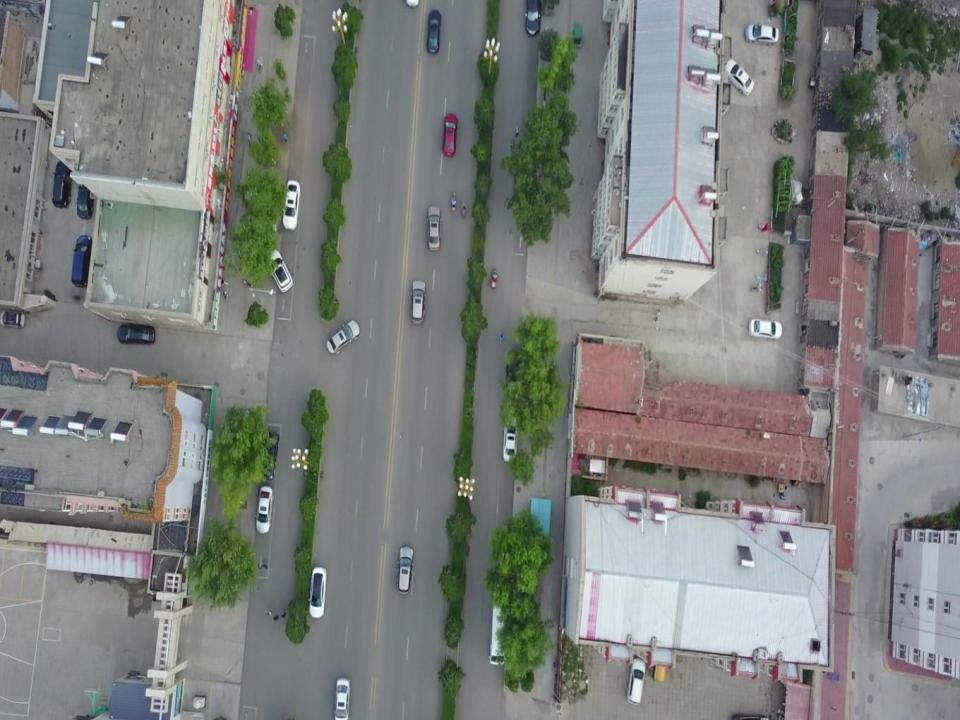bus: (489, 584, 511, 668)
car: (326, 319, 360, 356), (267, 249, 294, 293), (281, 179, 301, 231), (726, 58, 754, 95), (626, 658, 647, 706), (308, 566, 327, 618), (255, 486, 274, 534), (260, 432, 279, 480), (52, 160, 70, 209), (396, 545, 413, 594), (748, 318, 783, 341), (116, 325, 156, 345), (744, 23, 778, 46), (426, 8, 442, 54), (426, 204, 442, 250), (503, 418, 519, 464), (333, 677, 350, 720), (442, 113, 458, 157), (506, 351, 520, 401), (410, 280, 426, 323), (77, 184, 95, 220), (526, 0, 542, 37), (0, 309, 25, 328)
van: (70, 234, 92, 288)
